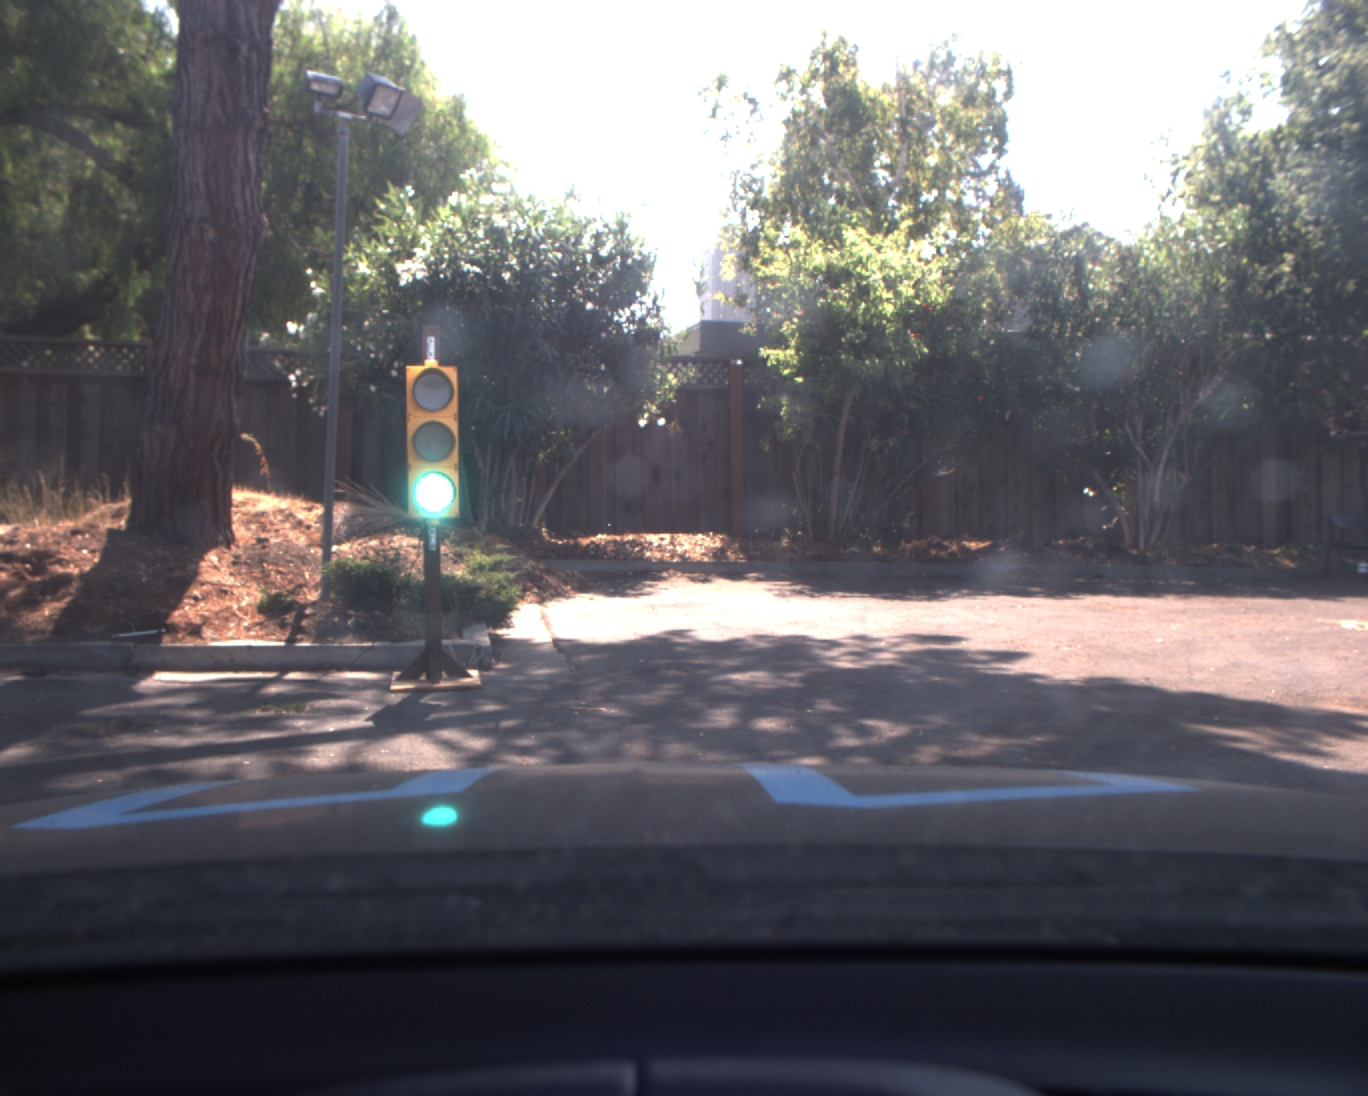green: (401, 361, 467, 525)
